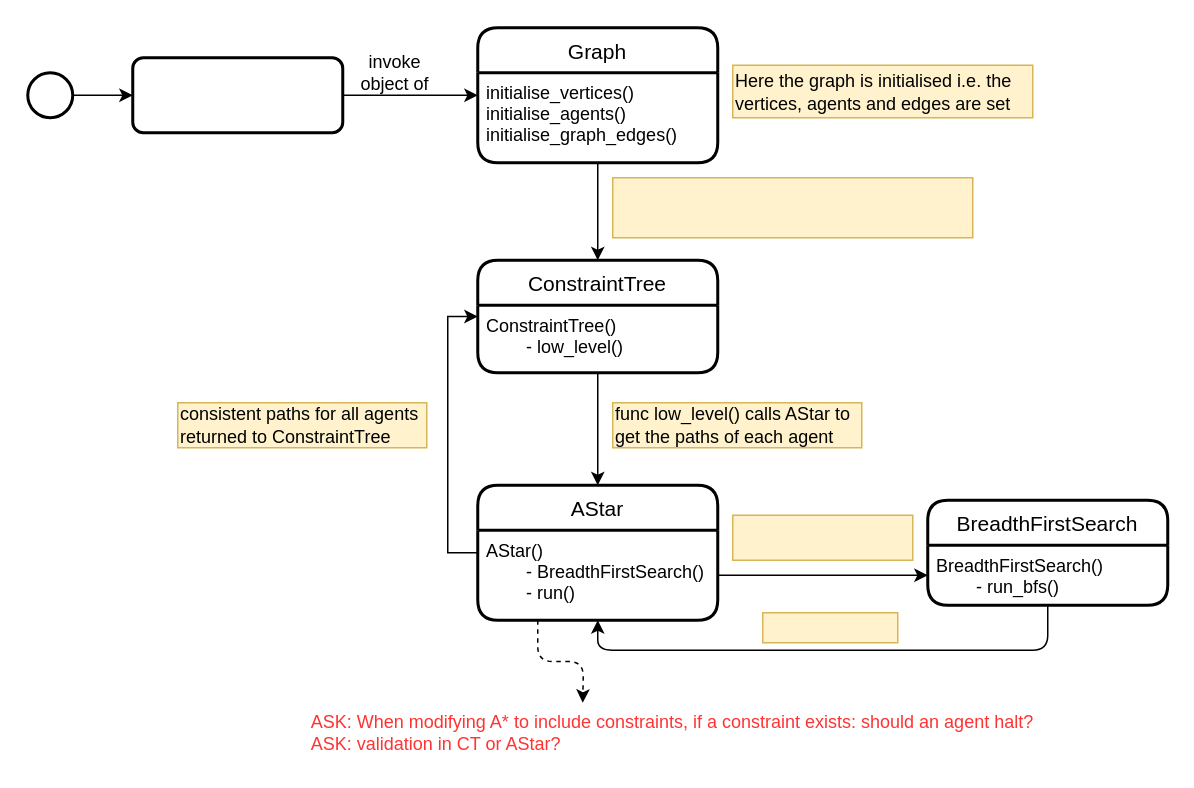
The diagram is 1194 pixels wide and 788 high, and some of its shapes have lost their labels. The centre of each missing label's shape, as x and y in pixels:
BFS is run to retrieve the h-values for A*: the point at 822,537
Next, the Constraint Tree is invoked. ConstraintTree() runs function low_level(): the point at 792,207
return h-values: the point at 829,627
take as input map_location & agent_location: the point at 237,95
